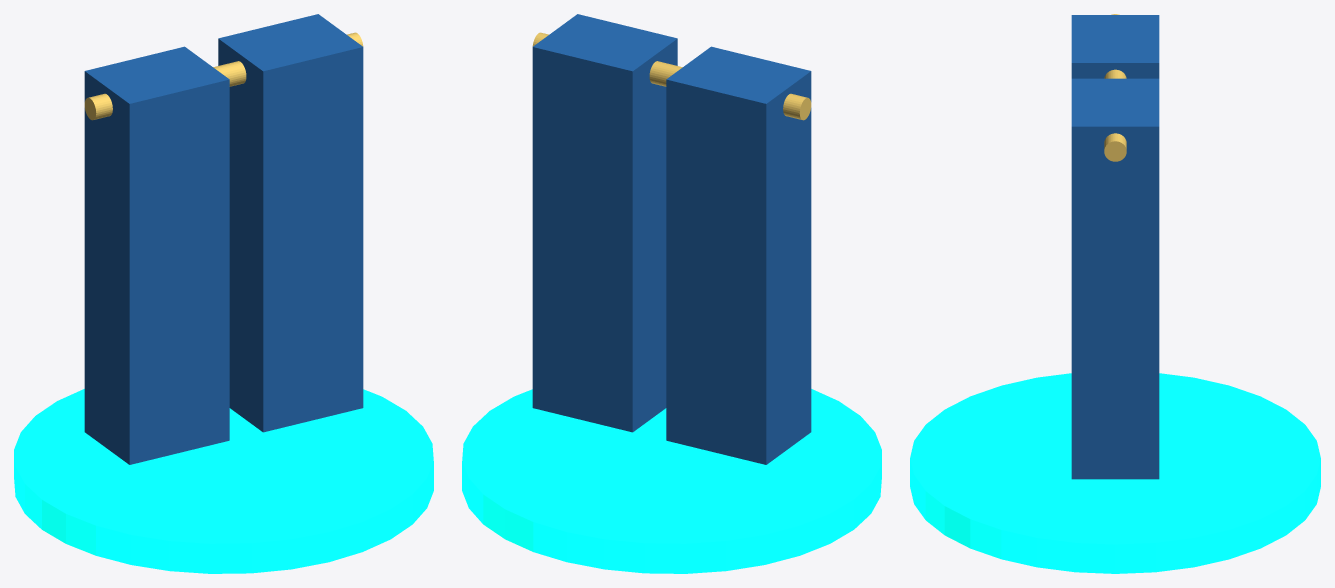
File: fashion_jeans.glb
The picture shows the model from 3 angles, left to right: view 1: azimuth 30°, elevation 25°; view 2: azimuth 150°, elevation 25°; view 3: azimuth 270°, elevation 25°; orthographic projection. The views are drawn at different scales.
Parts seen in each view (by area): view 1: 06_07_Popular_Fashion_Jeans_part_01, 06_07_Popular_Fashion_Jeans_ROOT_base, 06_07_Popular_Fashion_Jeans_part_02, 06_07_Popular_Fashion_Jeans_part_03; view 2: 06_07_Popular_Fashion_Jeans_part_01, 06_07_Popular_Fashion_Jeans_ROOT_base, 06_07_Popular_Fashion_Jeans_part_02, 06_07_Popular_Fashion_Jeans_part_03; view 3: 06_07_Popular_Fashion_Jeans_ROOT_base, 06_07_Popular_Fashion_Jeans_part_02, 06_07_Popular_Fashion_Jeans_part_01, 06_07_Popular_Fashion_Jeans_part_03.
Boxes of the visible parts, bbox=[...] form: 06_07_Popular_Fashion_Jeans_part_01: bbox=[84, 46, 229, 464]; 06_07_Popular_Fashion_Jeans_ROOT_base: bbox=[14, 389, 433, 573]; 06_07_Popular_Fashion_Jeans_part_02: bbox=[218, 14, 363, 432]; 06_07_Popular_Fashion_Jeans_part_03: bbox=[84, 32, 363, 120]; 06_07_Popular_Fashion_Jeans_part_01: bbox=[666, 46, 811, 464]; 06_07_Popular_Fashion_Jeans_ROOT_base: bbox=[462, 389, 881, 573]; 06_07_Popular_Fashion_Jeans_part_02: bbox=[532, 14, 677, 432]; 06_07_Popular_Fashion_Jeans_part_03: bbox=[532, 32, 811, 120]; 06_07_Popular_Fashion_Jeans_ROOT_base: bbox=[910, 373, 1320, 573]; 06_07_Popular_Fashion_Jeans_part_02: bbox=[1071, 78, 1159, 479]; 06_07_Popular_Fashion_Jeans_part_01: bbox=[1071, 15, 1159, 78]; 06_07_Popular_Fashion_Jeans_part_03: bbox=[1104, 14, 1126, 161].
Size of the model in its own units: 0.76 by 0.85 by 0.76.
